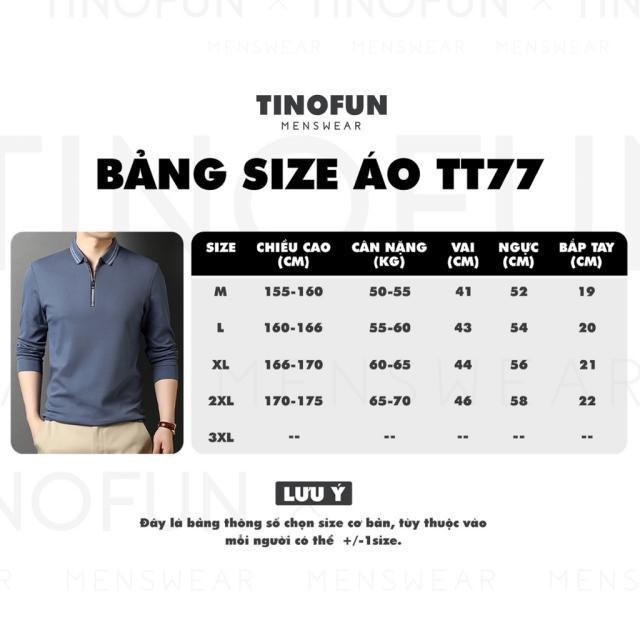Shirt: (12, 234, 180, 428)
